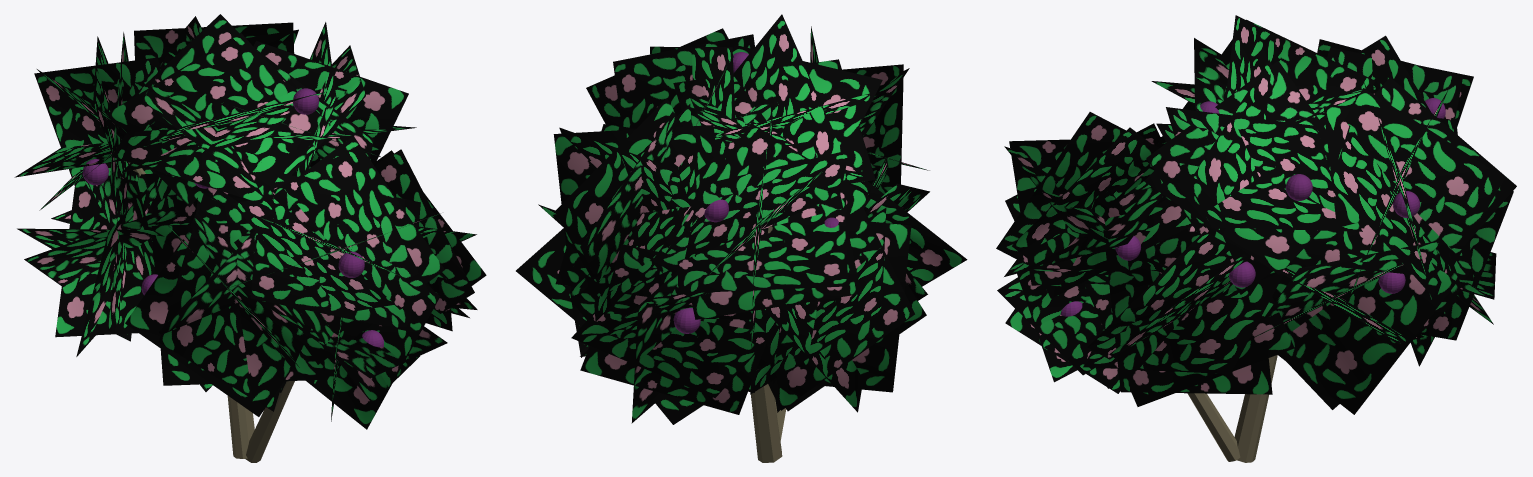
File: CaySim_Fix.fbx
3 renders of one model, left to right at view 1: azimuth 30°, elevation 25°; view 2: azimuth 150°, elevation 25°; view 3: azimuth 270°, elevation 25°, orthographic. The views are drawn at different scales.
Visible parts, largest first — view 1: LeafFlower_LOD0, Branch_LOD0, Berry_LOD0; view 2: LeafFlower_LOD0, Branch_LOD0, Berry_LOD0; view 3: LeafFlower_LOD0, Berry_LOD0, Branch_LOD0.
Part boxes in pixels (x1,y1,x2,y2): LeafFlower_LOD0: [14, 14, 486, 429]; Branch_LOD0: [129, 162, 294, 462]; Berry_LOD0: [82, 88, 383, 347]; LeafFlower_LOD0: [516, 14, 967, 424]; Branch_LOD0: [750, 226, 786, 462]; Berry_LOD0: [673, 52, 838, 333]; LeafFlower_LOD0: [996, 15, 1516, 414]; Berry_LOD0: [1060, 98, 1445, 316]; Branch_LOD0: [1187, 355, 1277, 462].
Size of what is drawn, in the model's own units: 817 by 884 by 948.
